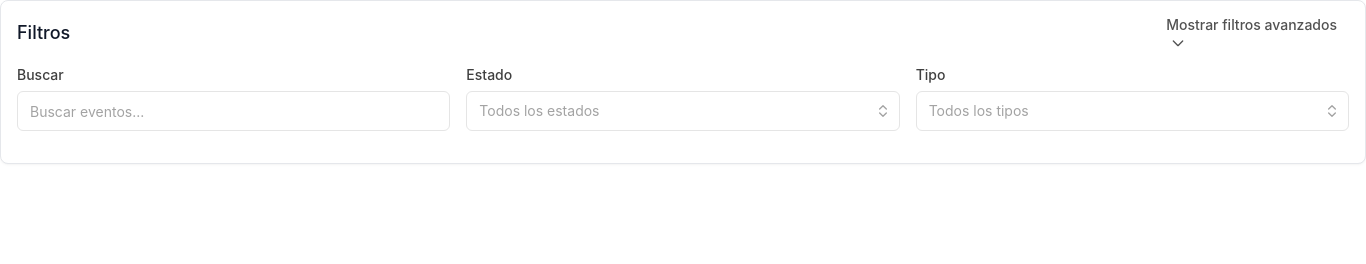
it: EventFiltersBar › advanced filters › should hide advanced filters when toggle is clicked again
Click the button "Mostrar filtros avanzados" at (1252, 33), box 1154,17 -> 1349,49
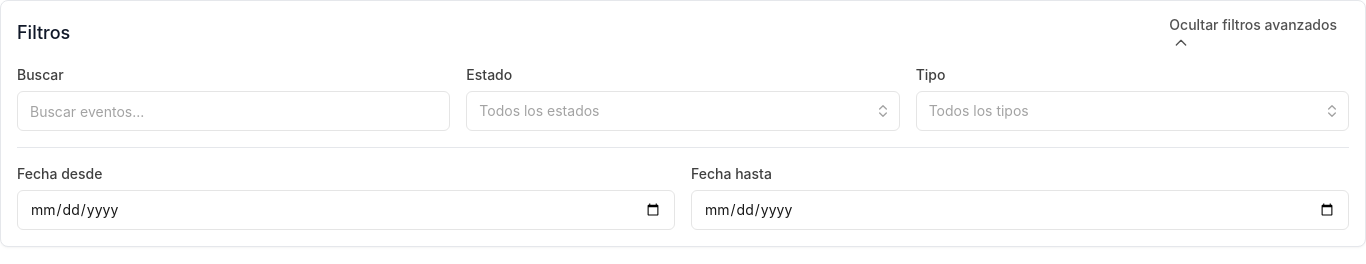
Click the button "Ocultar filtros avanzados" at (1253, 33), box 1157,17 -> 1349,49
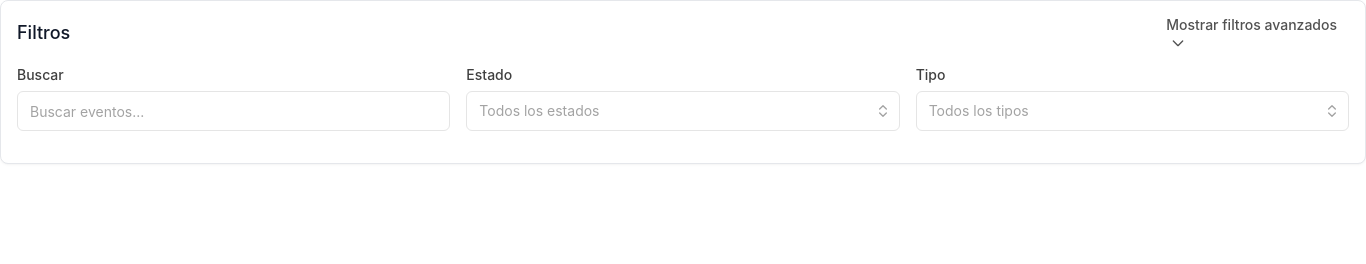
Result: the label labelled "Fecha desde" is gone
Result: the label labelled "Fecha hasta" is gone
